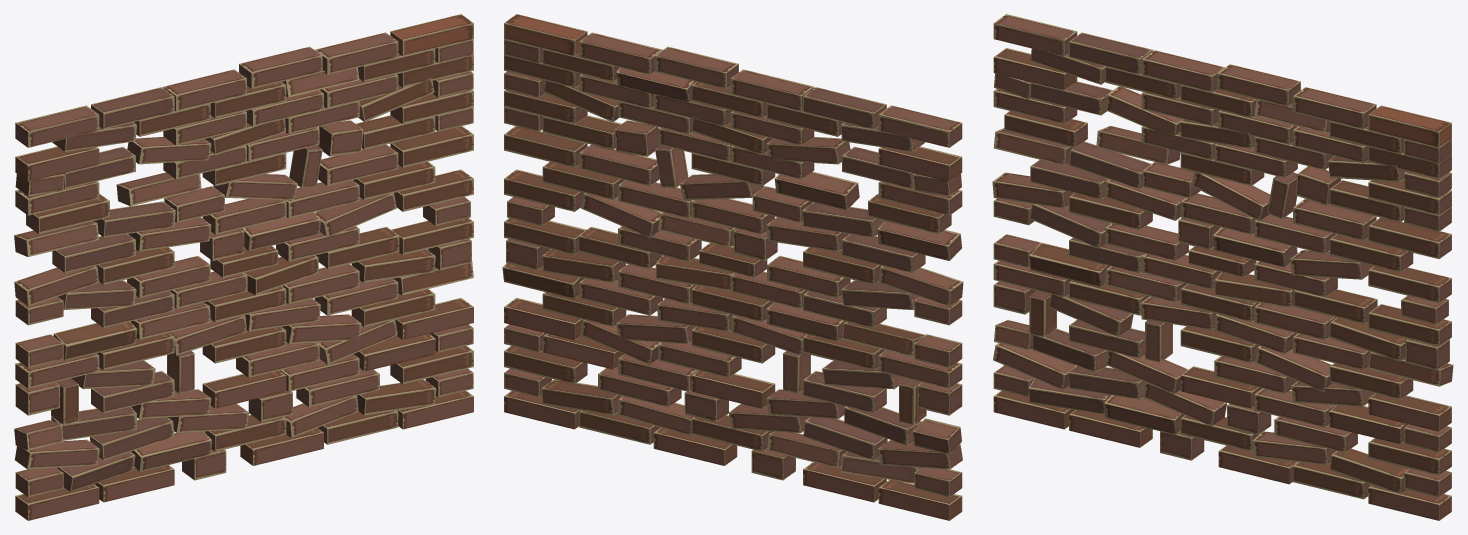
Rendered from WallBrick.FBX.
The picture shows the model from 3 angles, left to right: view 1: azimuth 30°, elevation 25°; view 2: azimuth 150°, elevation 25°; view 3: azimuth 330°, elevation 25°; orthographic projection.
Visible parts, largest first — view 1: WallBrickFinal; view 2: WallBrickFinal; view 3: WallBrickFinal.
Part boxes in pixels (bbox=[...]): WallBrickFinal: bbox=[14, 14, 473, 520]; WallBrickFinal: bbox=[502, 14, 963, 520]; WallBrickFinal: bbox=[992, 14, 1453, 520].
Bounding box in the file's own units: 6.01 × 5.06 × 0.4894.
